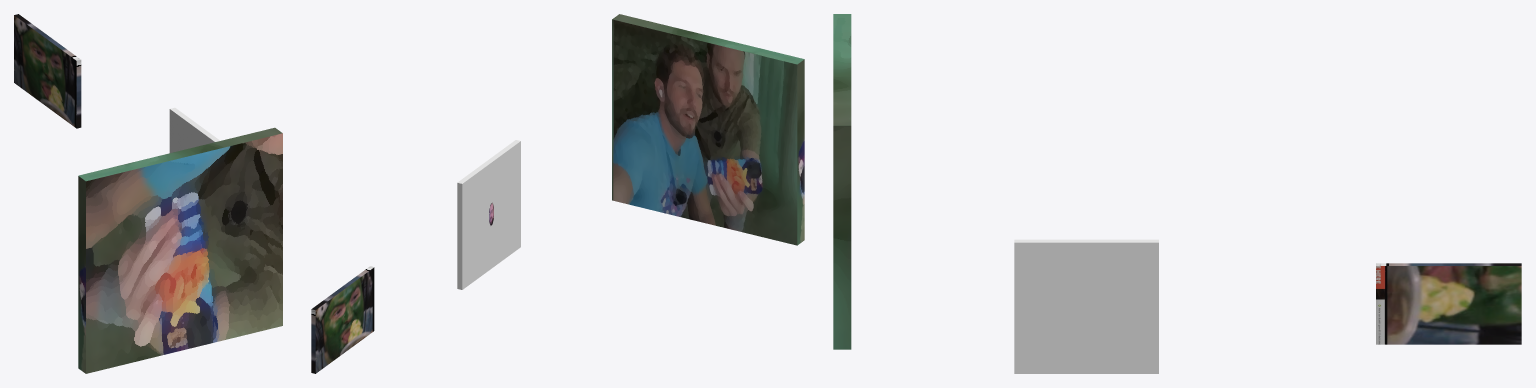
File: artworkl.glb
3 views of the same model, side by side, from view 1: azimuth 30°, elevation 25°; view 2: azimuth 150°, elevation 25°; view 3: azimuth 270°, elevation 25° (orthographic). The views are drawn at different scales.
Parts seen in each view (by area): view 1: Cube.597, Cube.1903, Cube.1901; view 2: Cube.597, Cube.1901, Cube.1903; view 3: Cube.1901, Cube.1903, Cube.597.
Part boxes in pixels (bbox=[...]): Cube.597: bbox=[78, 127, 282, 373]; Cube.1903: bbox=[14, 14, 81, 128]; Cube.1901: bbox=[169, 107, 220, 152]; Cube.597: bbox=[612, 14, 804, 245]; Cube.1901: bbox=[457, 140, 520, 289]; Cube.1903: bbox=[311, 266, 374, 373]; Cube.1901: bbox=[1014, 239, 1158, 373]; Cube.1903: bbox=[1376, 263, 1521, 344]; Cube.597: bbox=[833, 14, 851, 349].
Size of the model in its own units: 8.5 by 7 by 19.
Materials: 3 (3 with a texture image).
